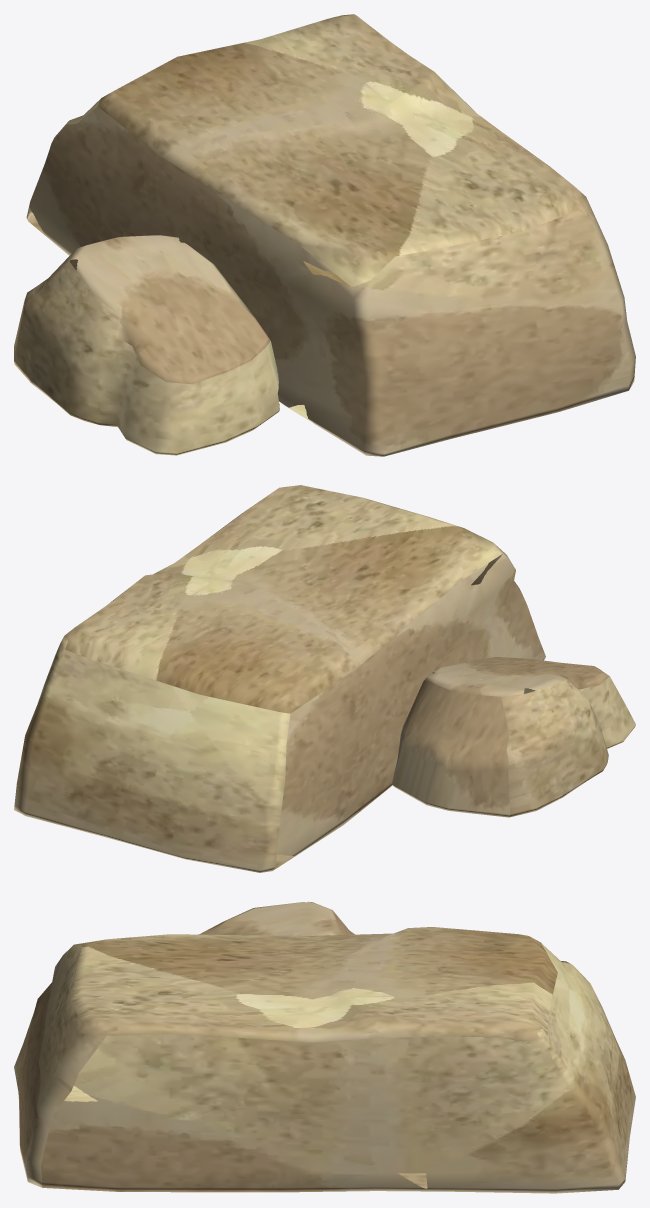
3 views of the same model, one above another, from view 1: azimuth 30°, elevation 25°; view 2: azimuth 150°, elevation 25°; view 3: azimuth 270°, elevation 25° (orthographic). The views are drawn at different scales.
Parts seen in each view (by area): view 1: SM_Sand_01_LOD0; view 2: SM_Sand_01_LOD0; view 3: SM_Sand_01_LOD0.
Boxes of the visible parts, box(x1,y1,x2,y2) form: SM_Sand_01_LOD0: box(14, 14, 635, 456); SM_Sand_01_LOD0: box(14, 485, 635, 872); SM_Sand_01_LOD0: box(14, 901, 635, 1193).
Bounding box in the file's own units: 0.3337 × 0.119 × 0.4165.
